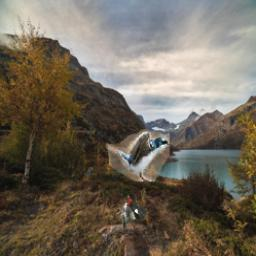Swallow: (106, 129, 170, 182)
Woodpecker: (116, 195, 147, 230)
